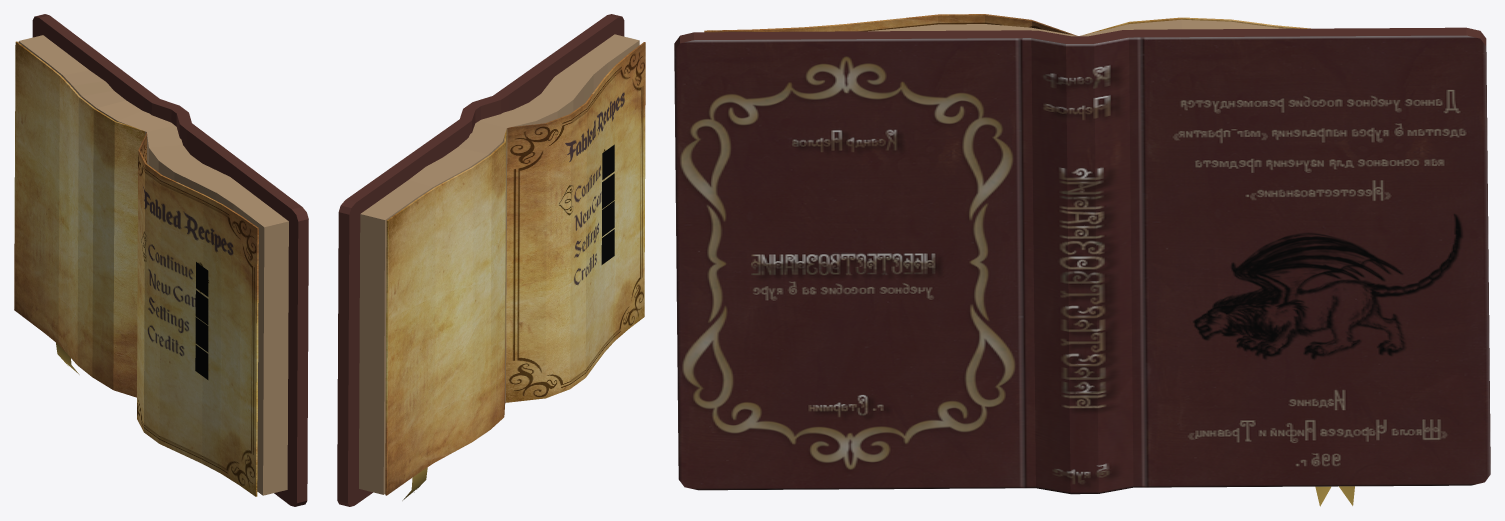
The model's file is book.glb.
The picture shows the model from 3 angles, left to right: view 1: azimuth 30°, elevation 25°; view 2: azimuth 150°, elevation 25°; view 3: azimuth 270°, elevation 25°; orthographic projection. The views are drawn at different scales.
Visible parts, largest first — view 1: pageleft, pageRight, object 2, object 5, Settings, Credits, New Game, Continue; view 2: pageRight, pageleft, object 2, object 5, Credits, New Game, Continue, Settings; view 3: object 4, object 5, pageRight, object 2.
Part boxes in pixels (x1,y1,x2,y2): pageleft: (14,41,144,397); pageRight: (137,132,258,496); object 2: (18,35,288,495); object 5: (32,14,308,506); Settings: (195,317,208,352); Credits: (195,345,208,379); New Game: (195,290,208,324); Continue: (196,262,208,296); pageRight: (506,42,645,402); pageleft: (385,129,506,495); object 2: (359,34,639,494); object 5: (337,14,624,506); Credits: (601,229,614,264); New Game: (602,173,614,208); Continue: (602,144,614,179); Settings: (602,201,614,236); object 4: (674,35,1490,494); object 5: (674,27,1490,463); pageRight: (704,14,1076,35); object 2: (868,19,1285,36).
Size of the model in its own units: 0.0708 by 0.3069 by 0.4684.
10 materials, 3 textured.
